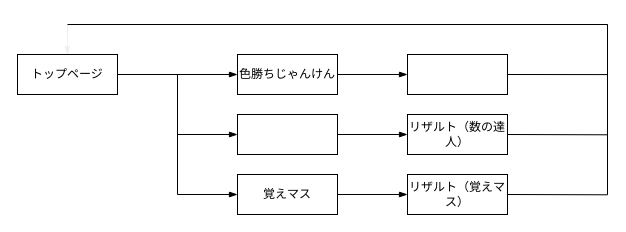
Image size: 626x232. Some labels were removed from this diagram. Here are the shapes that lost their labels. From the top down, the box of each, then its label:
(406, 54, 508, 94): リザルト（色勝ちじゃんけん）
(236, 114, 338, 154): 数の達人
